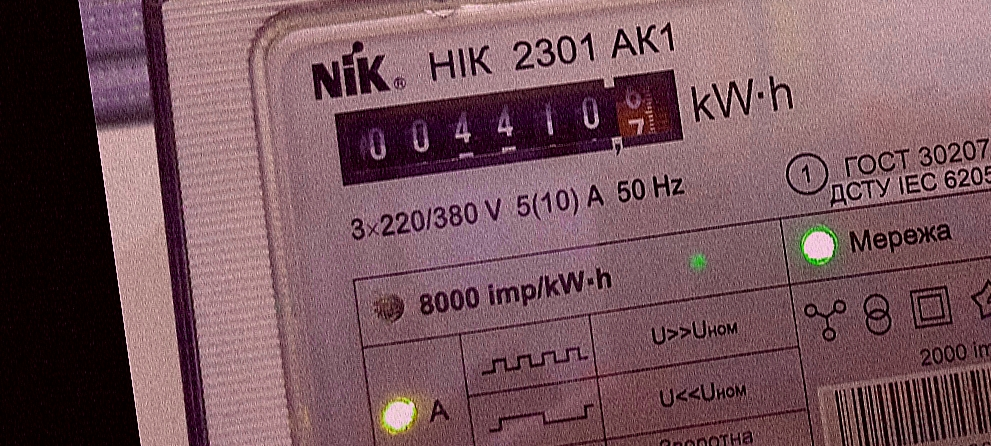0: (363, 121, 390, 162), (578, 92, 603, 130), (408, 114, 431, 154)
1: (539, 98, 557, 137)
4: (448, 104, 475, 145), (491, 100, 518, 141)
6: (624, 81, 644, 109)
7: (626, 114, 647, 136)
screen: (320, 51, 698, 200)
